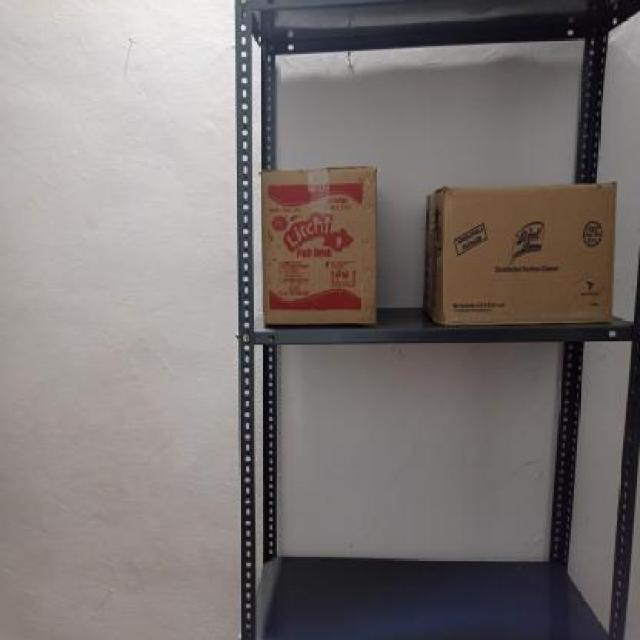box: (441, 186, 614, 326), (260, 165, 377, 327)
